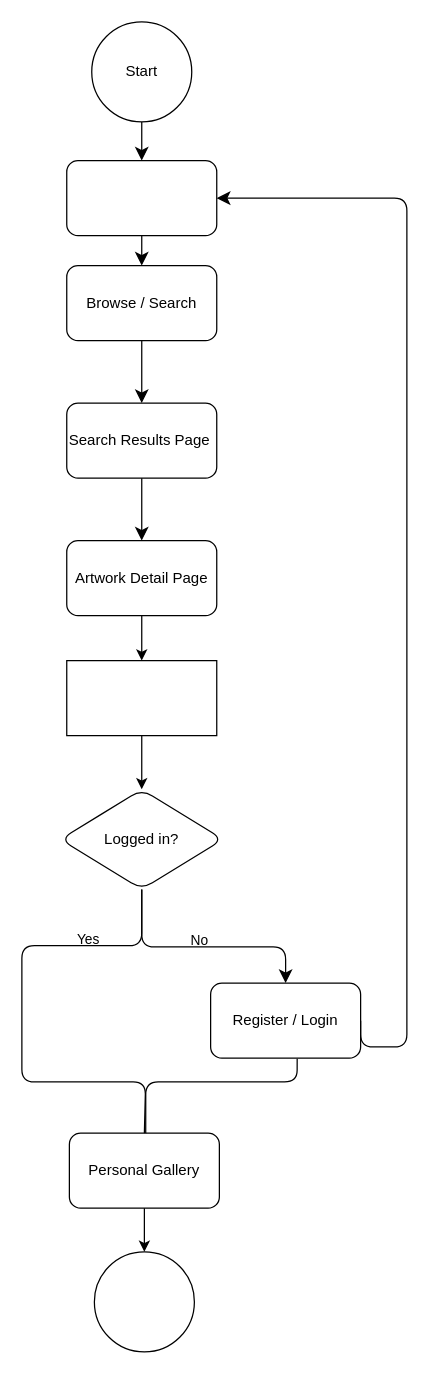
Some shapes in this 441 by 1374 pixel diagram are drawn without their labels. Each missing label, with the centre of its shape:
End: point 143,1301
Save to Favorites: point 141,697
User visits homepage: point 141,197
